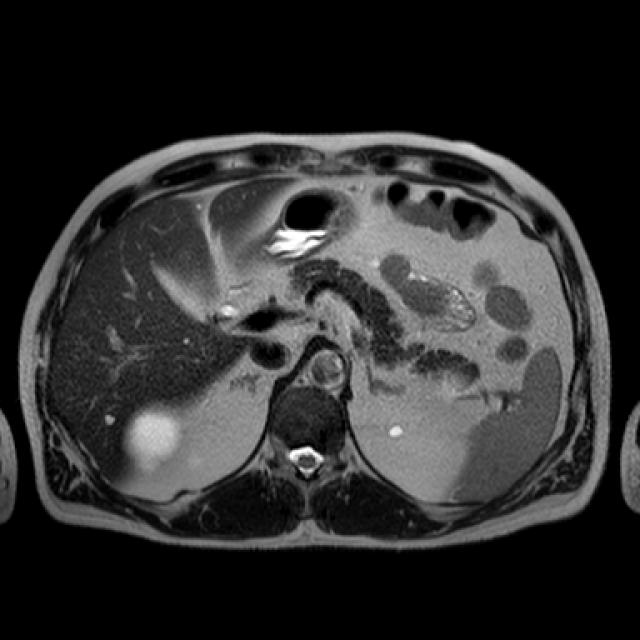sag: (125, 411, 183, 477)
